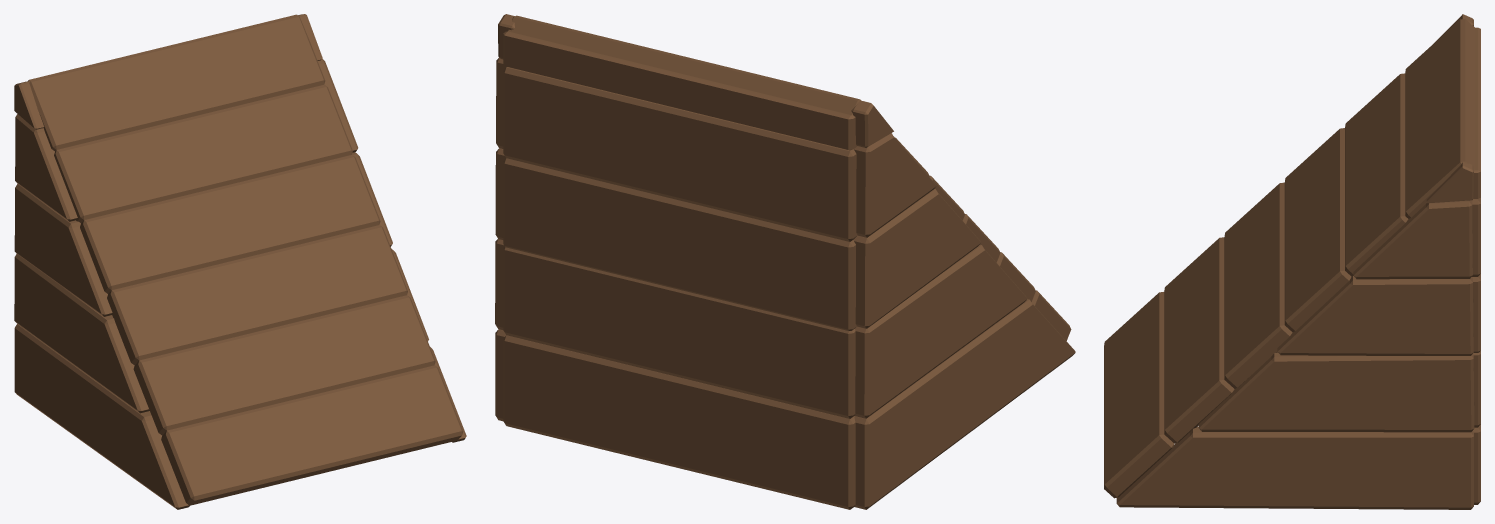
Rendered from Rampa.fbx.
3 views of the same model, side by side, from view 1: azimuth 30°, elevation 25°; view 2: azimuth 150°, elevation 25°; view 3: azimuth 270°, elevation 25° (orthographic). The views are drawn at different scales.
Parts seen in each view (by area): view 1: polySurface396; view 2: polySurface396; view 3: polySurface396.
Part boxes in pixels (box(x1,y1,x2,y2)): polySurface396: box(14, 14, 466, 509); polySurface396: box(495, 14, 1075, 509); polySurface396: box(1104, 14, 1480, 509).
Size of the model in its own units: 3.2 by 3.3 by 3.28.
